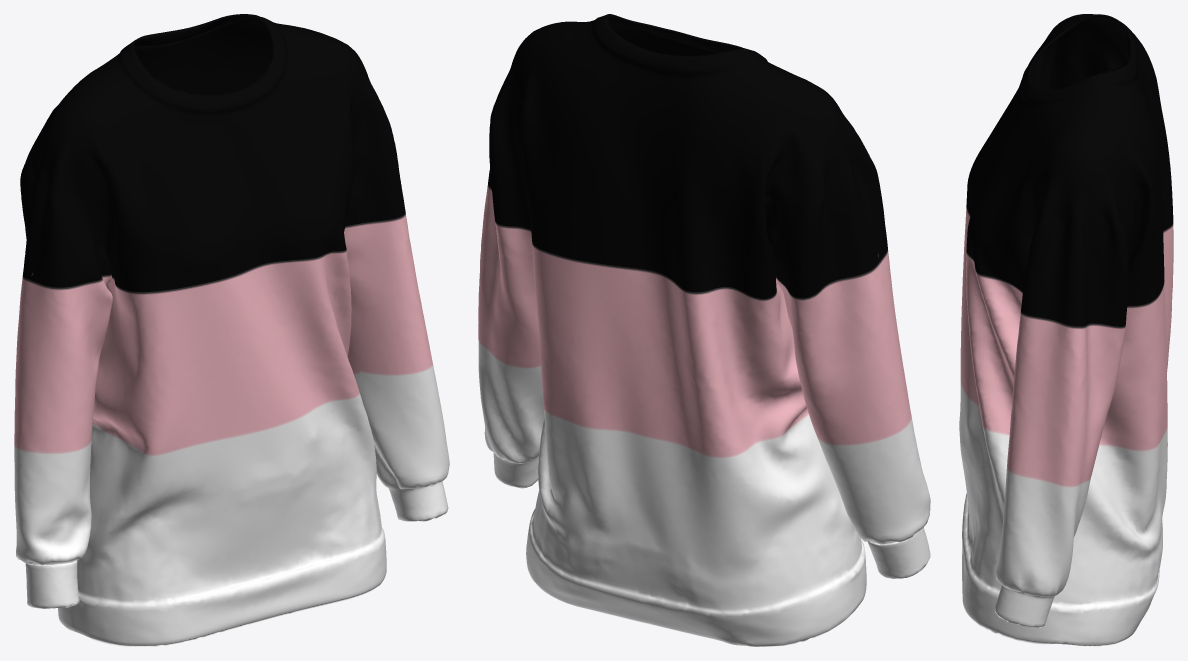
File: Wome_Sweater1.glb
The picture shows the model from 3 angles, left to right: view 1: azimuth 30°, elevation 25°; view 2: azimuth 150°, elevation 25°; view 3: azimuth 270°, elevation 25°; orthographic projection. The views are drawn at different scales.
Parts seen in each view (by area): view 1: poliver; view 2: poliver; view 3: poliver.
Boxes of the visible parts, x1,y1,x2,y2 form: poliver: (14,14,449,646); poliver: (478,14,930,646); poliver: (959,14,1173,646).
Size of the model in its own units: 1.94 by 2.47 by 0.8781.
Materials: 1 (1 with a texture image).
